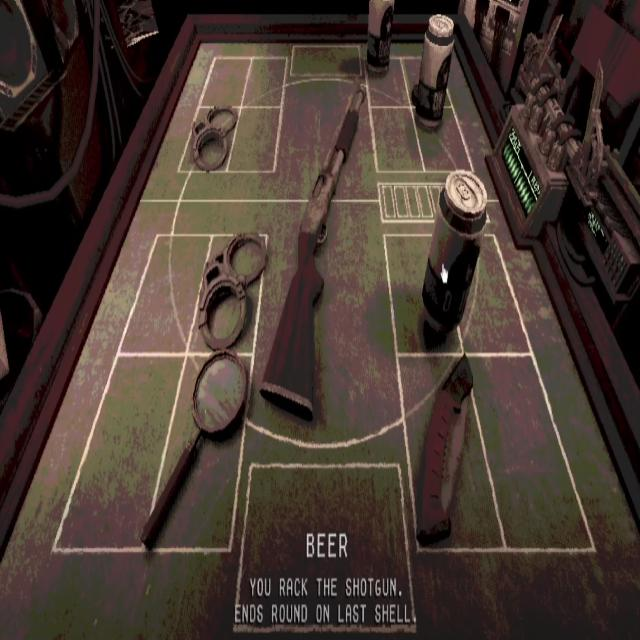can: (422, 170, 487, 340), (411, 14, 455, 130), (367, 0, 394, 71)
doubledamage: (416, 354, 473, 544)
handcuff: (198, 233, 267, 351), (191, 106, 238, 171)
lens: (141, 350, 249, 548)
